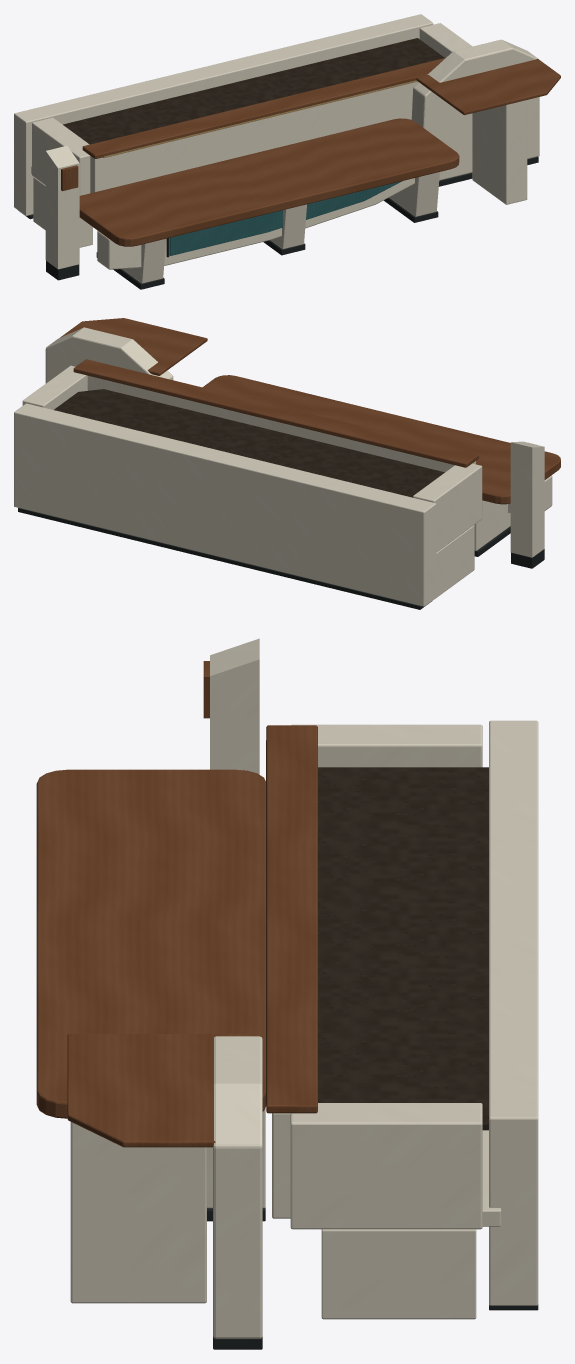
The model's file is AST-SAL-004.glb.
The picture shows the model from 3 angles, top to bottom: view 1: azimuth 30°, elevation 25°; view 2: azimuth 150°, elevation 25°; view 3: azimuth 270°, elevation 25°; orthographic projection. The views are drawn at different scales.
Visible parts, largest first — view 1: AST-SAL-004__ivory_enamel, AST-SAL-004__warm_walnut, AST-SAL-004__botanical_soil, AST-SAL-004__teal_weave, AST-SAL-004__dark_rubber, AST-SAL-004__champagne_metal; view 2: AST-SAL-004__ivory_enamel, AST-SAL-004__warm_walnut, AST-SAL-004__botanical_soil, AST-SAL-004__dark_rubber; view 3: AST-SAL-004__ivory_enamel, AST-SAL-004__warm_walnut, AST-SAL-004__botanical_soil, AST-SAL-004__dark_rubber.
Boxes of the visible parts, <box> form: AST-SAL-004__ivory_enamel: <box>14,14,539,283</box>; AST-SAL-004__warm_walnut: <box>61,57,560,246</box>; AST-SAL-004__botanical_soil: <box>63,38,444,144</box>; AST-SAL-004__teal_weave: <box>169,181,402,255</box>; AST-SAL-004__dark_rubber: <box>18,156,538,289</box>; AST-SAL-004__champagne_metal: <box>103,80,417,157</box>; AST-SAL-004__ivory_enamel: <box>14,327,552,606</box>; AST-SAL-004__warm_walnut: <box>60,318,560,504</box>; AST-SAL-004__botanical_soil: <box>54,389,444,497</box>; AST-SAL-004__dark_rubber: <box>18,508,544,609</box>; AST-SAL-004__ivory_enamel: <box>70,638,538,1338</box>; AST-SAL-004__warm_walnut: <box>36,661,317,1147</box>; AST-SAL-004__botanical_soil: <box>318,767,488,1130</box>; AST-SAL-004__dark_rubber: <box>207,1208,538,1349</box>.
Bounding box in the file's own units: 3.6 × 0.86 × 1.62.
6 materials, 6 textured.
